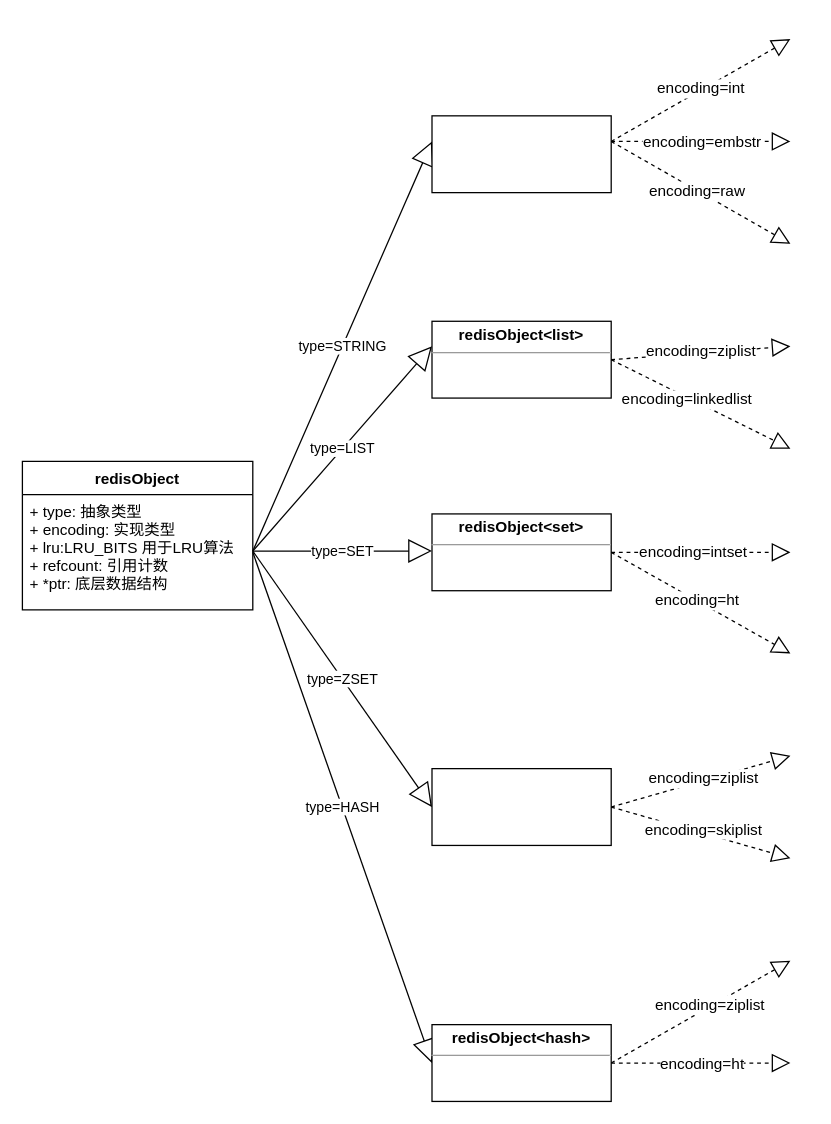
Image size: 831x1124. Some labels were removed from this diagram. Here are the shapes that lost their labels. From the top down, the centre of each, then its label:
At point (521, 154): "redisObject<string>".
At point (521, 806): "redisObject<zset>".
